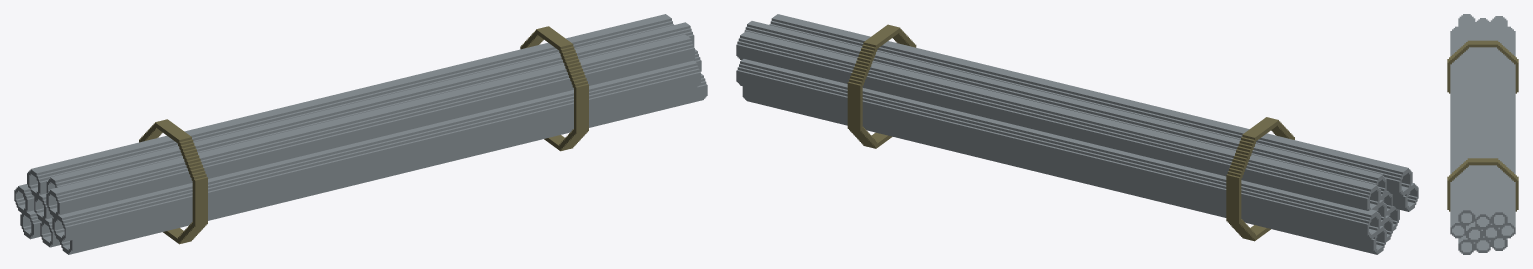
File: bundle_pipe.glb
The picture shows the model from 3 angles, left to right: view 1: azimuth 30°, elevation 25°; view 2: azimuth 150°, elevation 25°; view 3: azimuth 270°, elevation 25°; orthographic projection. The views are drawn at different scales.
Parts seen in each view (by area): view 1: bundle_pipe:compound; view 2: bundle_pipe:compound; view 3: bundle_pipe:compound.
Boxes of the visible parts, left/top/right/bottom form: bundle_pipe:compound: left=14, top=14, right=707, bottom=254; bundle_pipe:compound: left=736, top=14, right=1418, bottom=254; bundle_pipe:compound: left=1447, top=14, right=1518, bottom=254.
Bounding box in the file's own units: 0.612 × 0.094 × 0.092.
